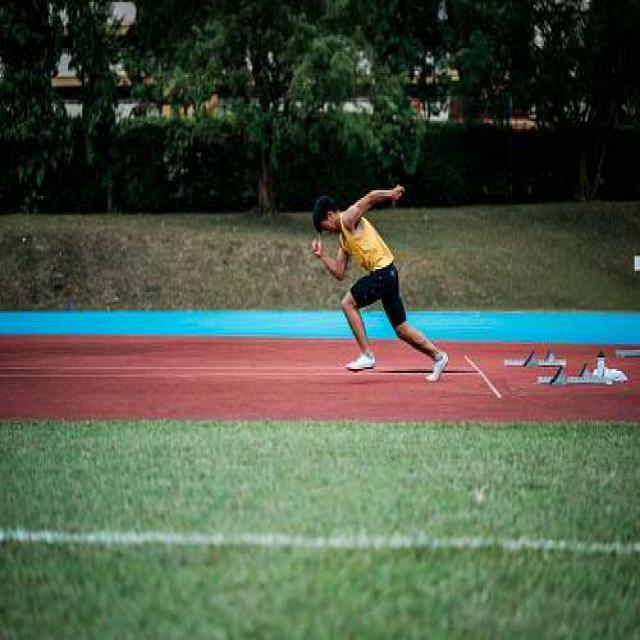running: (308, 184, 453, 387)
